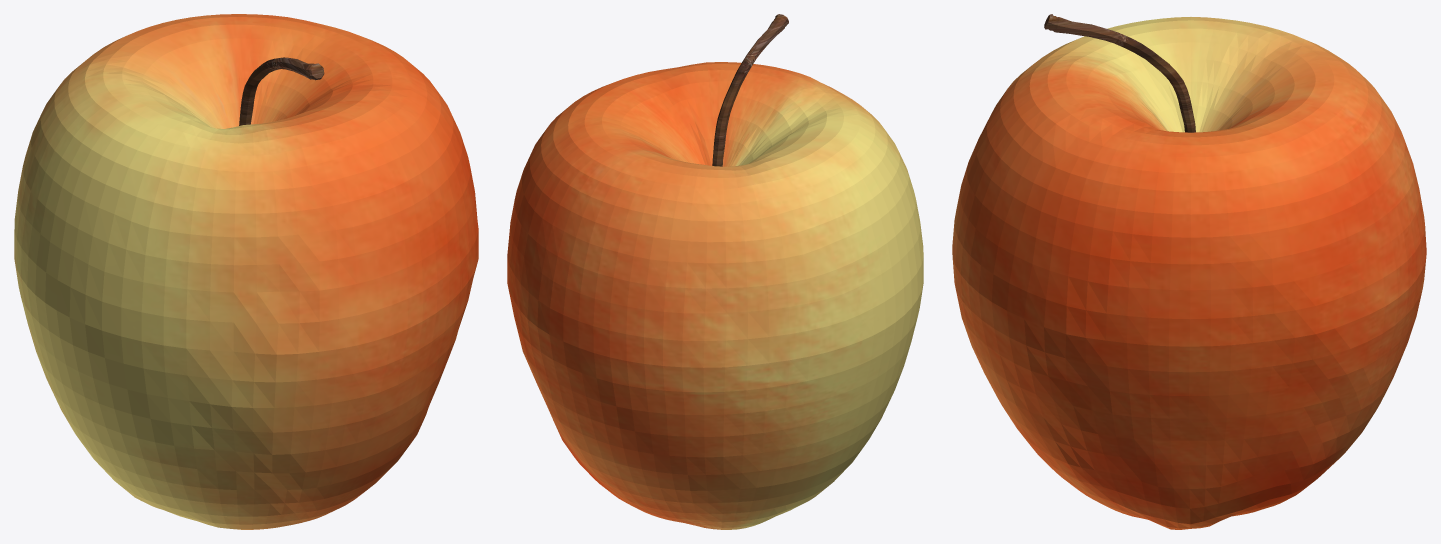
File: apple.obj
3 views of the same model, side by side, from view 1: azimuth 30°, elevation 25°; view 2: azimuth 150°, elevation 25°; view 3: azimuth 270°, elevation 25° (orthographic). The views are drawn at different scales.
Parts seen in each view (by area): view 1: apple_skin, apple_stem; view 2: apple_skin, apple_stem; view 3: apple_skin, apple_stem.
Boxes of the visible parts, x1,y1,x2,y2 form: apple_skin: (14,14,478,529); apple_stem: (239,57,324,125); apple_skin: (507,62,923,529); apple_stem: (712,14,788,166); apple_skin: (952,17,1426,529); apple_stem: (1044,14,1195,132).
Bounding box in the file's own units: 65.38 × 77.56 × 68.95.
